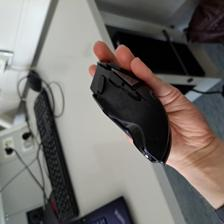mouse: (89, 61, 173, 167)
